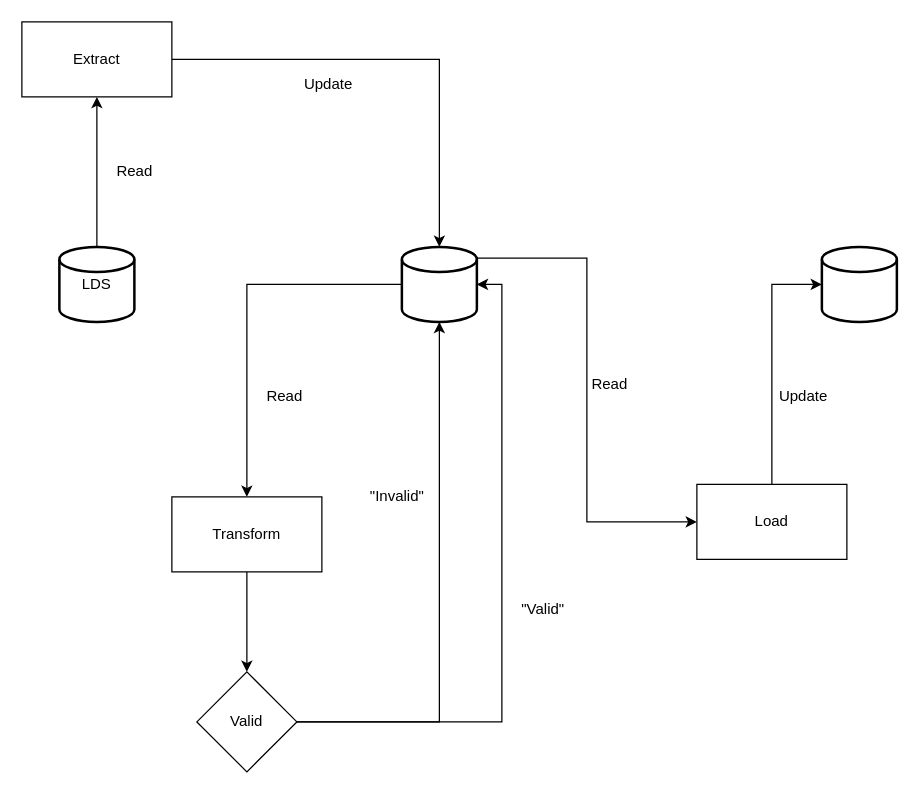
The diagram is 920 pixels wide and 794 high, and some of its shapes have lost their labels. The centre of each missing label's shape, as x and y in pixels:
"IDS" goes at point (859, 283).
"TDS" goes at point (439, 283).
